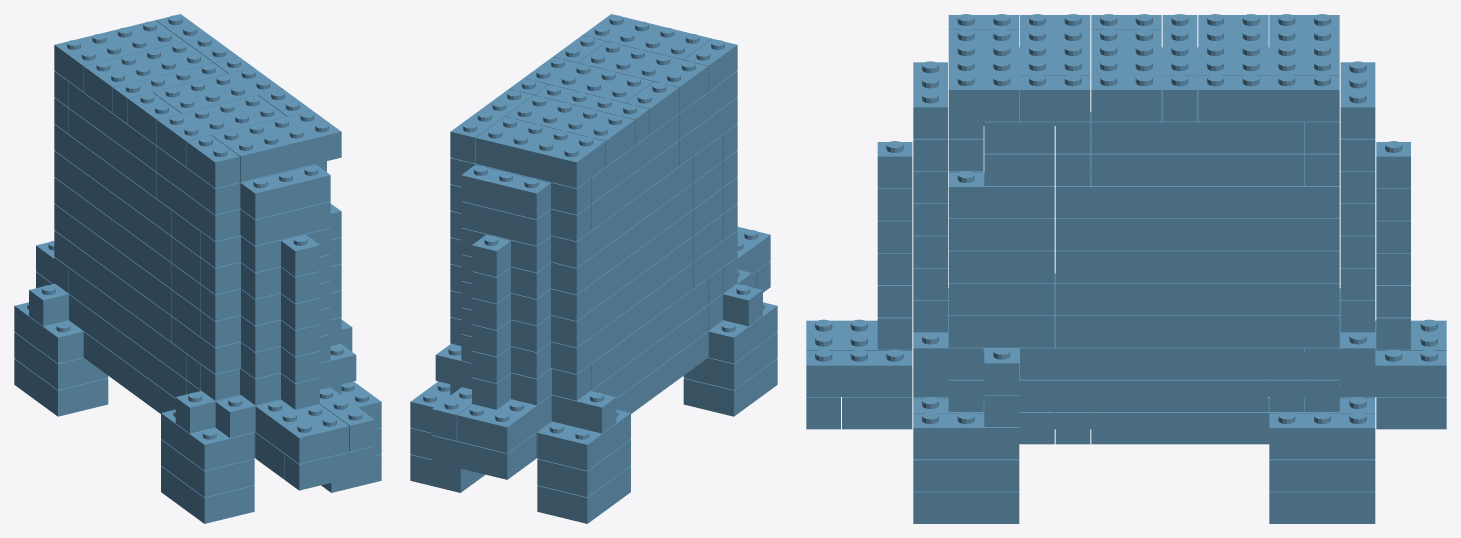
The model's file is 241_train_L1.glb.
The picture shows the model from 3 angles, left to right: view 1: azimuth 30°, elevation 25°; view 2: azimuth 150°, elevation 25°; view 3: azimuth 270°, elevation 25°; orthographic projection. The views are drawn at different scales.
Size of the model in its own units: 6.98 by 13.13 by 17.98.
